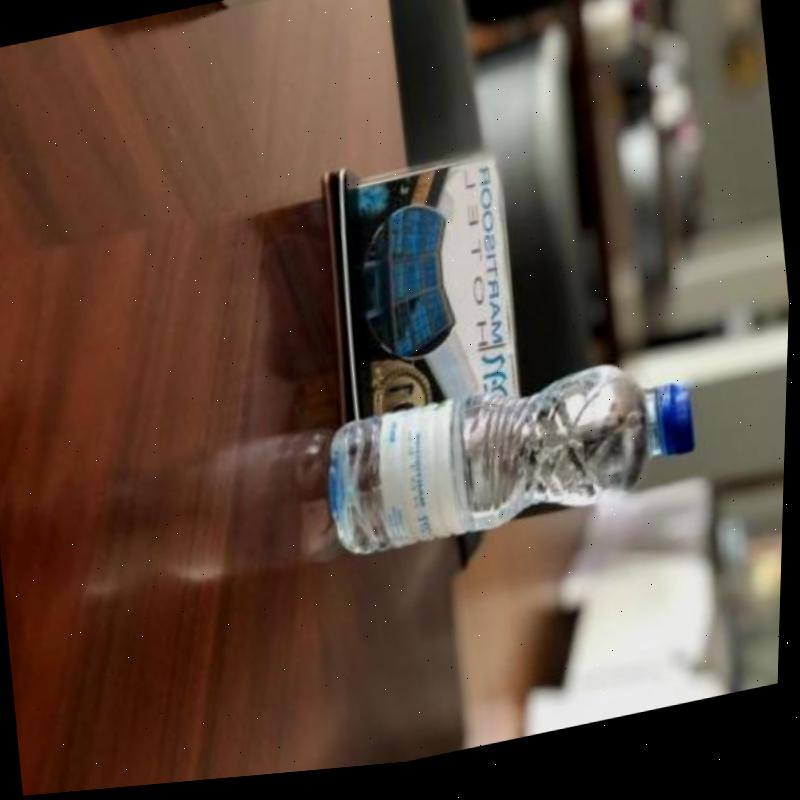botella: (319, 358, 703, 569)
